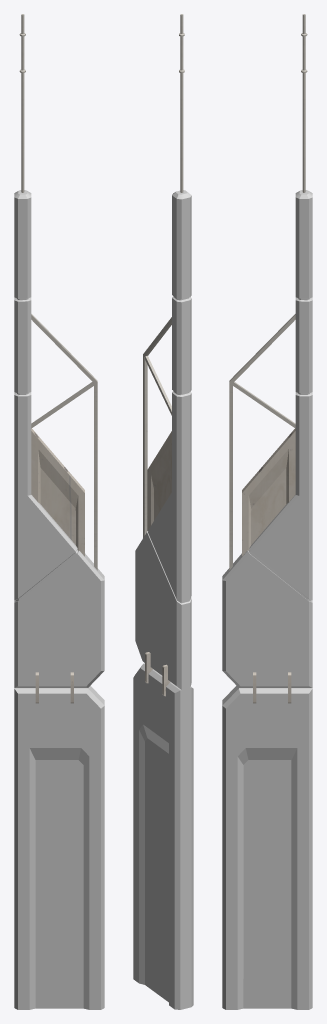
Rendered from KB3D_CBP_Antenna_A.fbx.
The picture shows the model from 3 angles, left to right: view 1: azimuth 90°, elevation 25°; view 2: azimuth 210°, elevation 25°; view 3: azimuth 270°, elevation 25°; orthographic projection.
Parts seen in each view (by area): view 1: KB3D_CBP_Antenna_A_Main; view 2: KB3D_CBP_Antenna_A_Main; view 3: KB3D_CBP_Antenna_A_Main.
Boxes of the visible parts, x1,y1,x2,y2 form: KB3D_CBP_Antenna_A_Main: (14, 14, 104, 1009); KB3D_CBP_Antenna_A_Main: (133, 14, 193, 1009); KB3D_CBP_Antenna_A_Main: (222, 14, 312, 1009).
Size of the model in its own units: 16.56 by 684 by 56.46.
